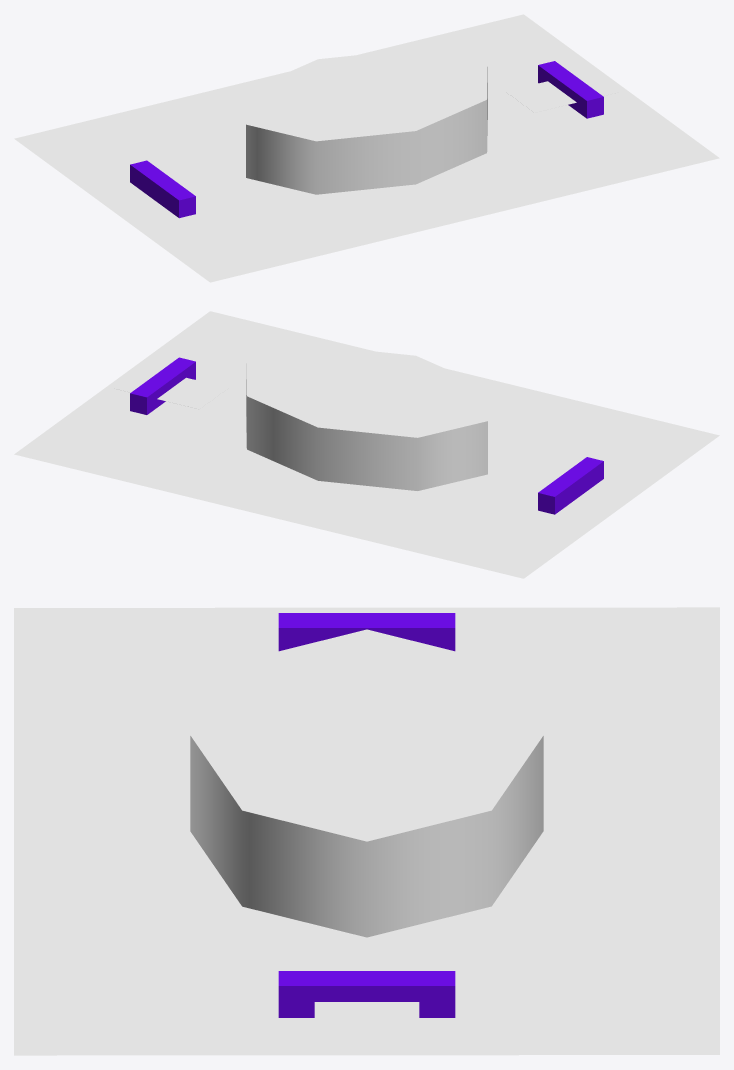
3 renders of one model, top to bottom at view 1: azimuth 30°, elevation 25°; view 2: azimuth 150°, elevation 25°; view 3: azimuth 270°, elevation 25°, orthographic. The views are drawn at different scales.
Parts seen in each view (by area): view 1: Ground, Cylinder, Pad 1, Pad 2, Box; view 2: Ground, Cylinder, Pad 1, Pad 2, Box; view 3: Ground, Cylinder, Pad 2, Pad 1, Box.
Boxes of the visible parts, bbox=[...] form: Ground: bbox=[14, 14, 719, 282]; Cylinder: bbox=[246, 49, 487, 194]; Pad 1: bbox=[130, 160, 195, 218]; Pad 2: bbox=[538, 61, 603, 118]; Box: bbox=[505, 71, 618, 112]; Ground: bbox=[14, 311, 719, 578]; Cylinder: bbox=[246, 345, 487, 490]; Pad 1: bbox=[538, 457, 603, 514]; Pad 2: bbox=[130, 357, 195, 414]; Box: bbox=[114, 367, 228, 409]; Ground: bbox=[14, 607, 719, 1055]; Cylinder: bbox=[190, 629, 543, 937]; Pad 2: bbox=[278, 971, 455, 1017]; Pad 1: bbox=[278, 613, 455, 651]; Box: bbox=[314, 949, 419, 1024].
Size of the model in its own units: 6 by 1 by 4.
